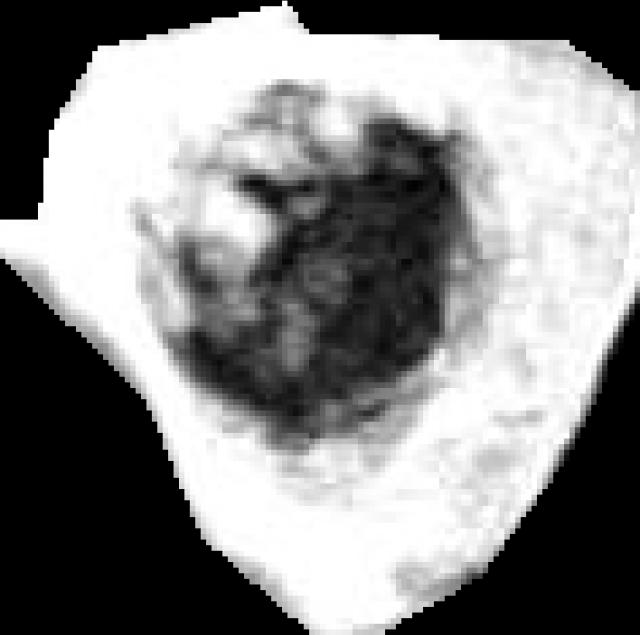tumor_less_chance: (0, 1, 640, 635)
